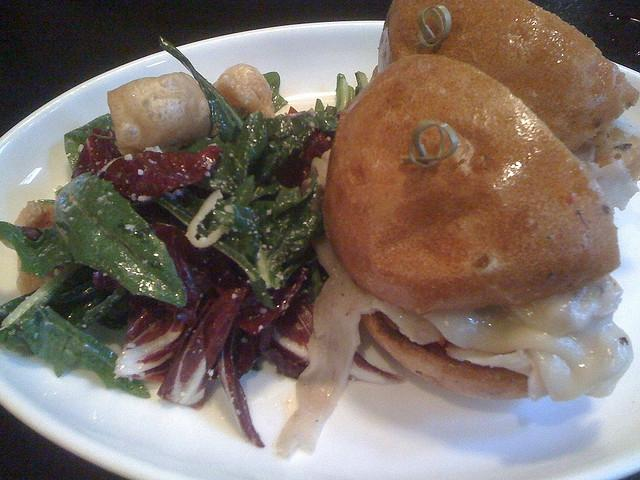lettuce: (156, 172, 324, 309), (0, 259, 151, 398), (52, 171, 188, 306), (158, 286, 248, 410), (104, 146, 219, 202), (253, 112, 320, 184), (0, 221, 75, 281), (224, 110, 268, 188), (280, 130, 336, 186), (64, 114, 116, 173), (71, 129, 124, 180), (233, 338, 263, 380), (262, 72, 288, 114)
